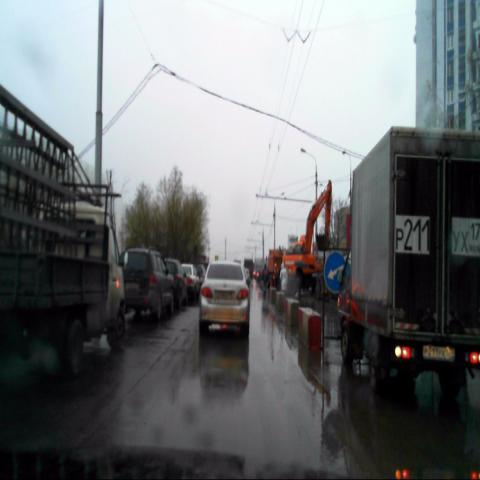4_2_2: (324, 251, 348, 292)
